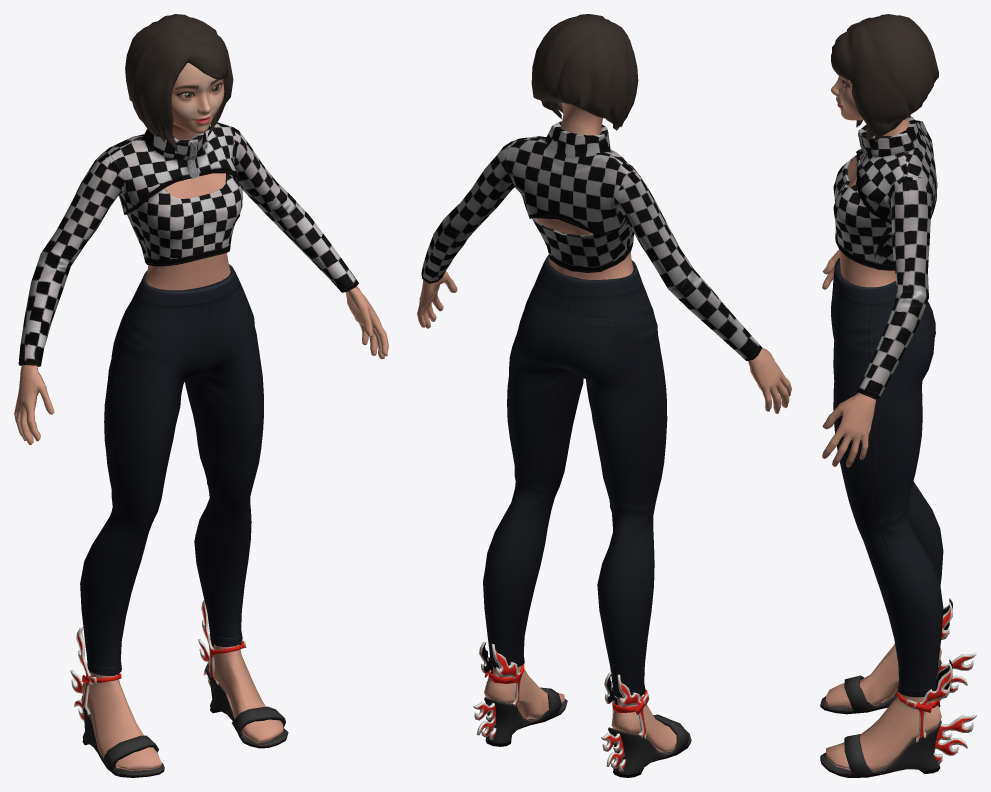
Rendered from female-avatar.glb.
The picture shows the model from 3 angles, left to right: view 1: azimuth 30°, elevation 25°; view 2: azimuth 150°, elevation 25°; view 3: azimuth 270°, elevation 25°; orthographic projection.
Parts seen in each view (by area): view 1: Object_7, Object_5, Object_2, Object_6, Object_3, Object_4; view 2: Object_7, Object_5, Object_6, Object_3, Object_2, Object_4; view 3: Object_7, Object_5, Object_2, Object_6, Object_3, Object_4.
Part boxes in pixels (x1=…): Object_7: x1=80, y1=264, x2=263, y2=675; Object_5: x1=18, y1=122, x2=358, y2=366; Object_2: x1=14, y1=173, x2=388, y2=770; Object_6: x1=125, y1=14, x2=233, y2=152; Object_3: x1=70, y1=600, x2=288, y2=777; Object_4: x1=171, y1=63, x2=224, y2=139; Object_7: x1=483, y1=254, x2=667, y2=698; Object_5: x1=421, y1=121, x2=762, y2=360; Object_6: x1=531, y1=14, x2=638, y2=130; Object_3: x1=473, y1=641, x2=691, y2=777; Object_2: x1=417, y1=218, x2=791, y2=752; Object_4: x1=561, y1=103, x2=602, y2=135; Object_7: x1=831, y1=258, x2=943, y2=697; Object_5: x1=833, y1=116, x2=937, y2=400; Object_2: x1=822, y1=157, x2=941, y2=771; Object_6: x1=831, y1=14, x2=938, y2=142; Object_3: x1=820, y1=598, x2=976, y2=777; Object_4: x1=831, y1=75, x2=909, y2=136.
Size of the model in its own units: 0.9279 by 1.76 by 0.3485.
Materials: 8 (8 with a texture image).
